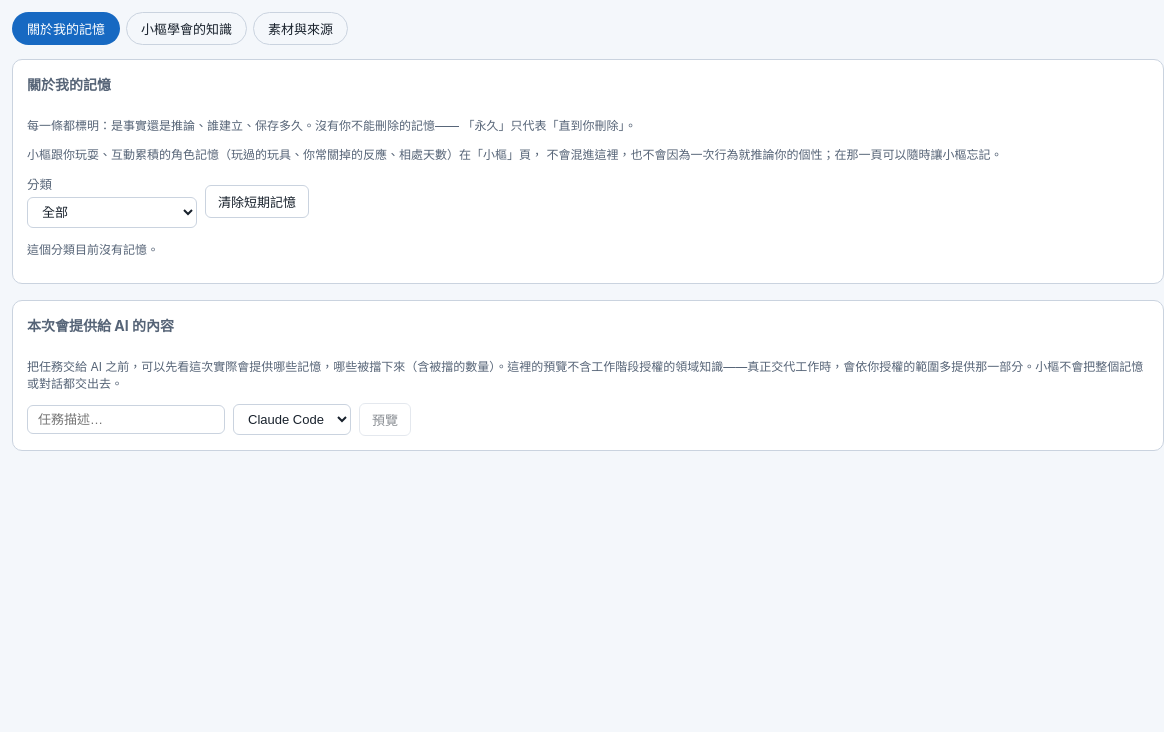
Test: Context Bundle 摘要：needsReview 是 id 陣列，要算成條數 › 一般模式預覽：mock memoryBundle 回 needsReview:['m1']，畫面出現「需要你重新確認 1 條」與領域知識註記
Expected: the heading "本次會提供給 AI 的內容" is shown, 27,315 -> 174,335
In the field with placeholder "任務描述…": (126,420) 27,405 -> 225,434, type "整理報告"
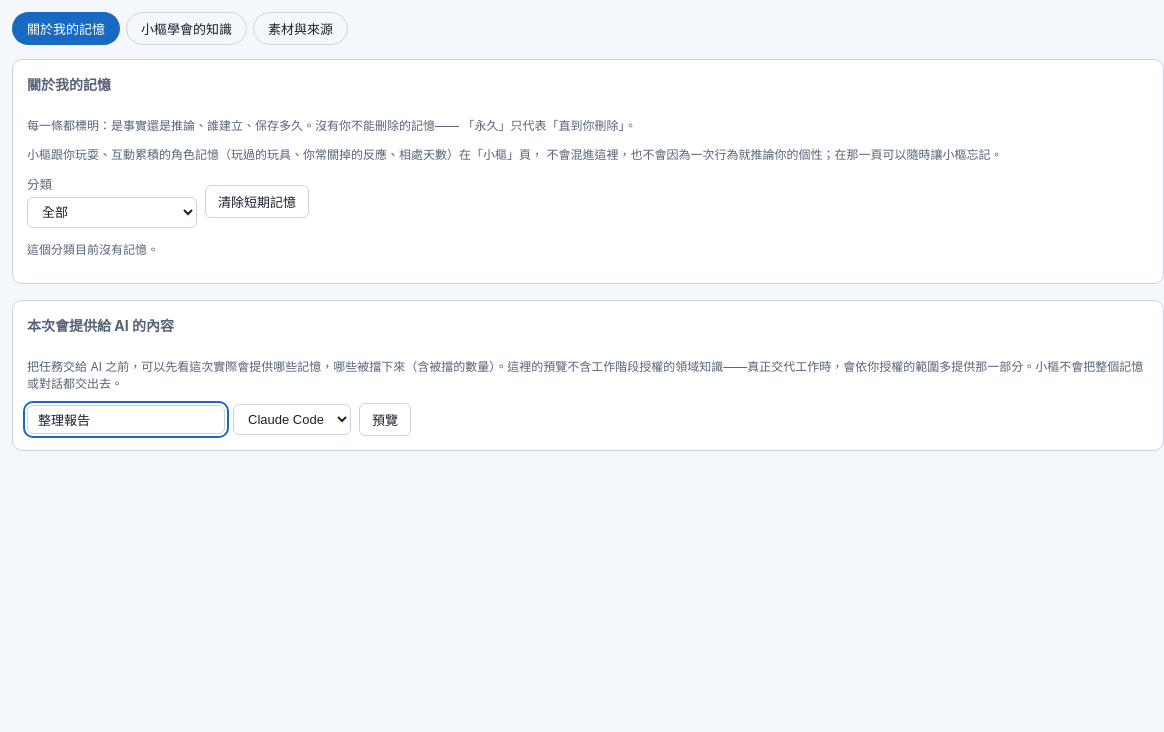
Click the button "預覽": (385,420) 359,403 -> 411,436
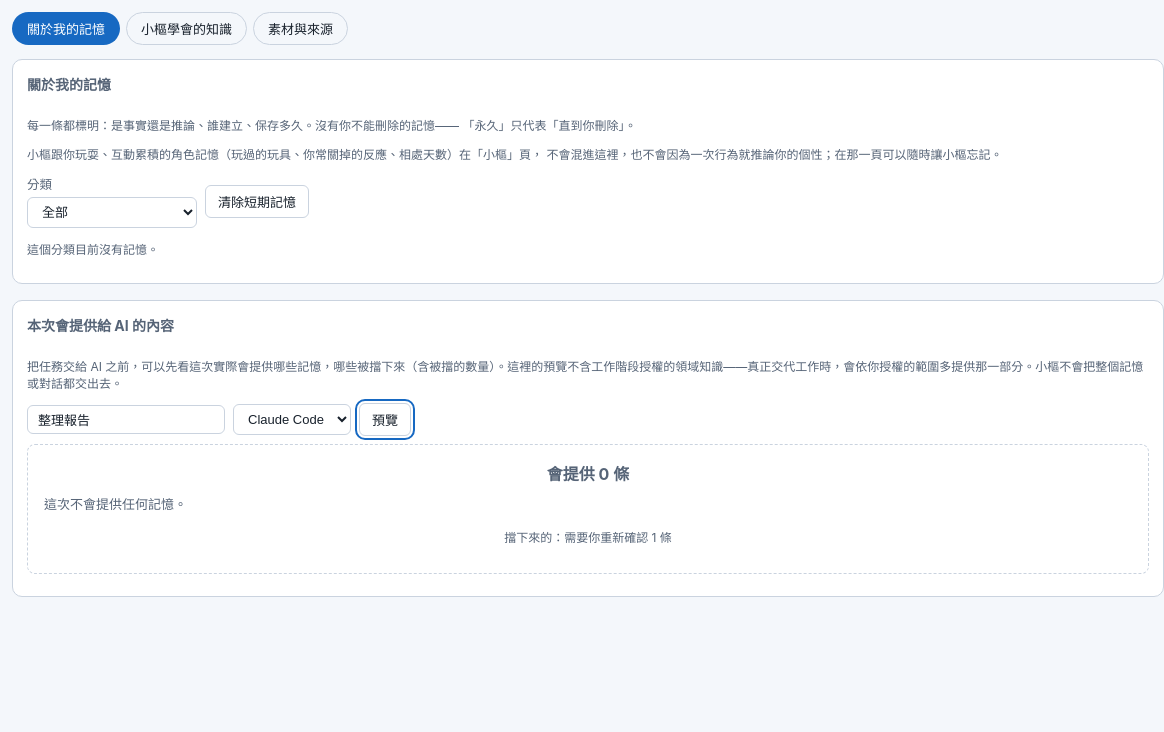
Result: the text "擋下來的：需要你重新確認 1 條" is shown at 504,530 -> 672,545
